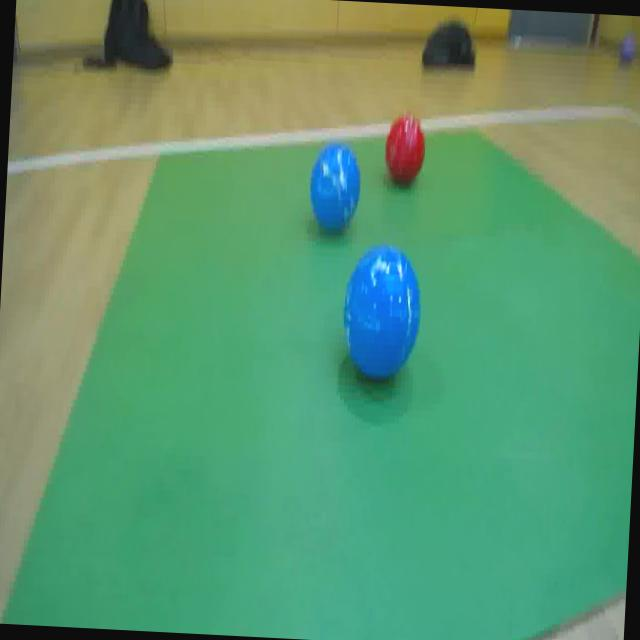blue_ball: (337, 246, 425, 386), (304, 130, 364, 238)
purple_ball: (615, 34, 638, 69)
red_ball: (382, 110, 431, 188)
